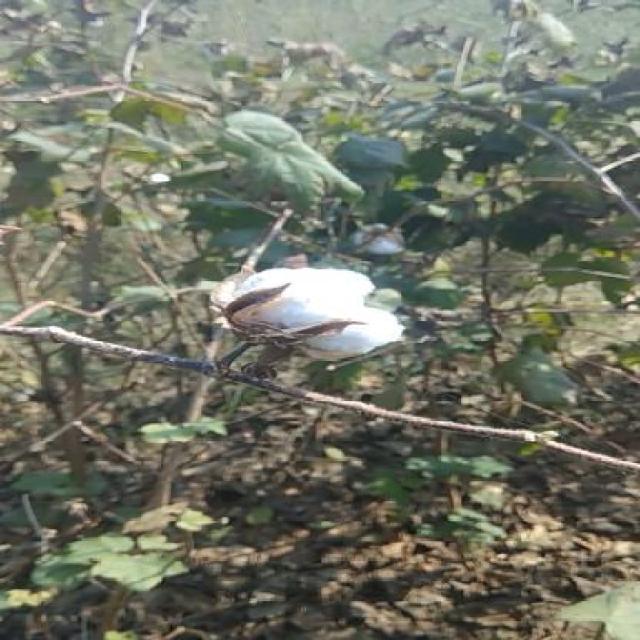cotton_ready: (220, 264, 428, 411)
